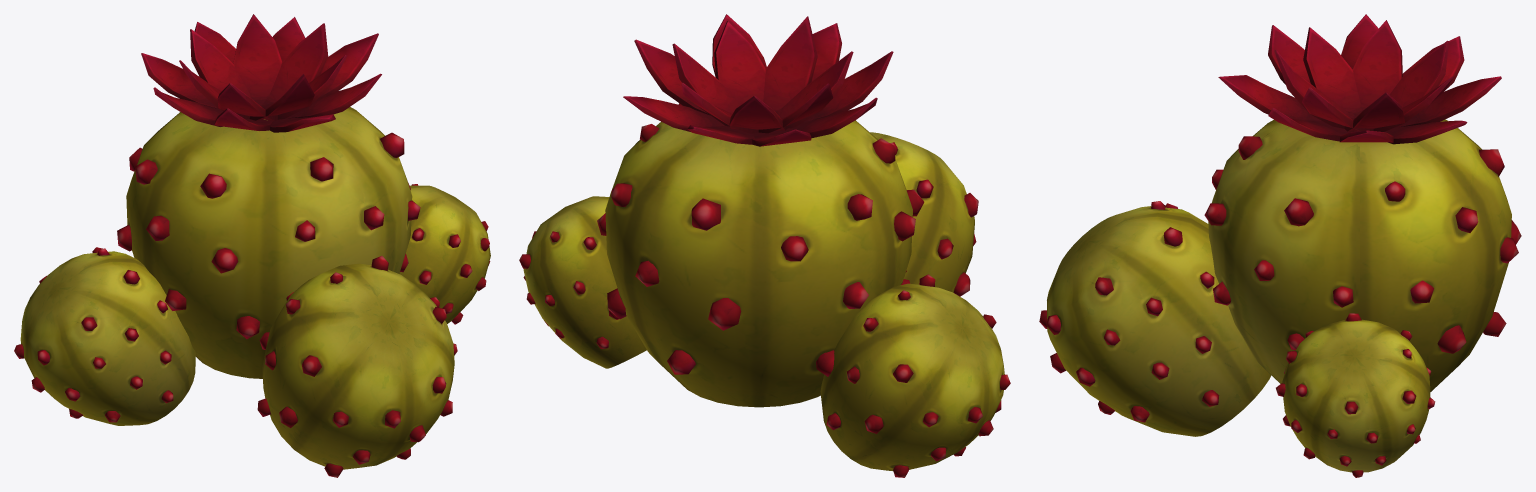
The model's file is DE_Cactus_16.fbx.
The picture shows the model from 3 angles, left to right: view 1: azimuth 30°, elevation 25°; view 2: azimuth 150°, elevation 25°; view 3: azimuth 270°, elevation 25°; orthographic projection. The views are drawn at different scales.
Parts seen in each view (by area): view 1: DE_Cactus_16; view 2: DE_Cactus_16; view 3: DE_Cactus_16.
Boxes of the visible parts, <box> form: DE_Cactus_16: <box>14,14,490,477</box>; DE_Cactus_16: <box>519,14,1010,477</box>; DE_Cactus_16: <box>1039,14,1521,477</box>.
Bounding box in the file's own units: 3.23 × 2.48 × 2.84.
